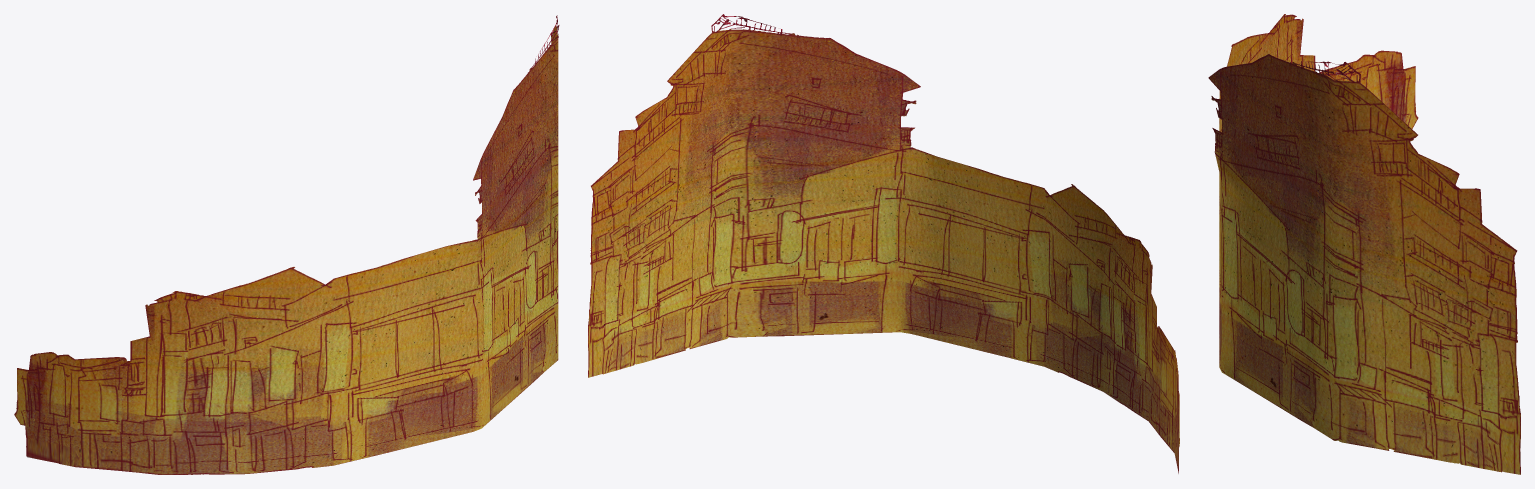
File: 03_front_bld_01.fbx
3 renders of one model, left to right at view 1: azimuth 30°, elevation 25°; view 2: azimuth 150°, elevation 25°; view 3: azimuth 270°, elevation 25°, orthographic. The views are drawn at different scales.
Parts seen in each view (by area): view 1: 03_前_房子_01; view 2: 03_前_房子_01; view 3: 03_前_房子_01.
Part boxes in pixels (x1=…): 03_前_房子_01: x1=14, y1=15, x2=559, y2=474; 03_前_房子_01: x1=588, y1=14, x2=1179, y2=473; 03_前_房子_01: x1=1208, y1=14, x2=1520, y2=474.
Size of the model in its own units: 420 by 239 by 177.
Materials: 1 (1 with a texture image).
